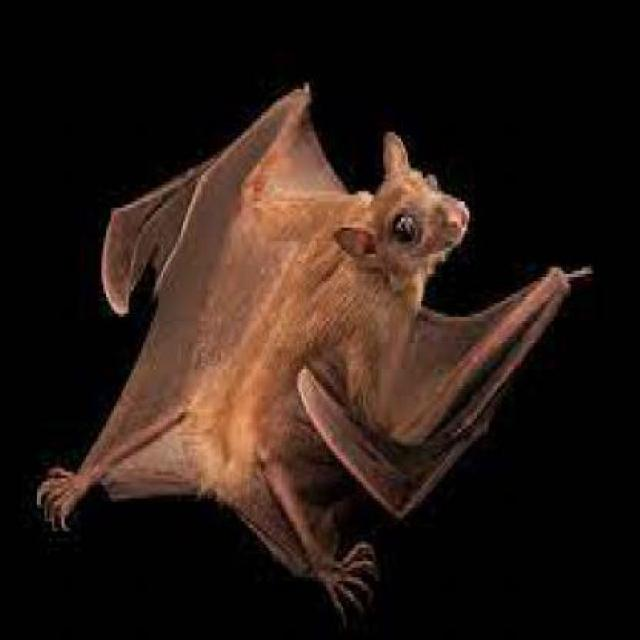Bat: (34, 77, 584, 613)
